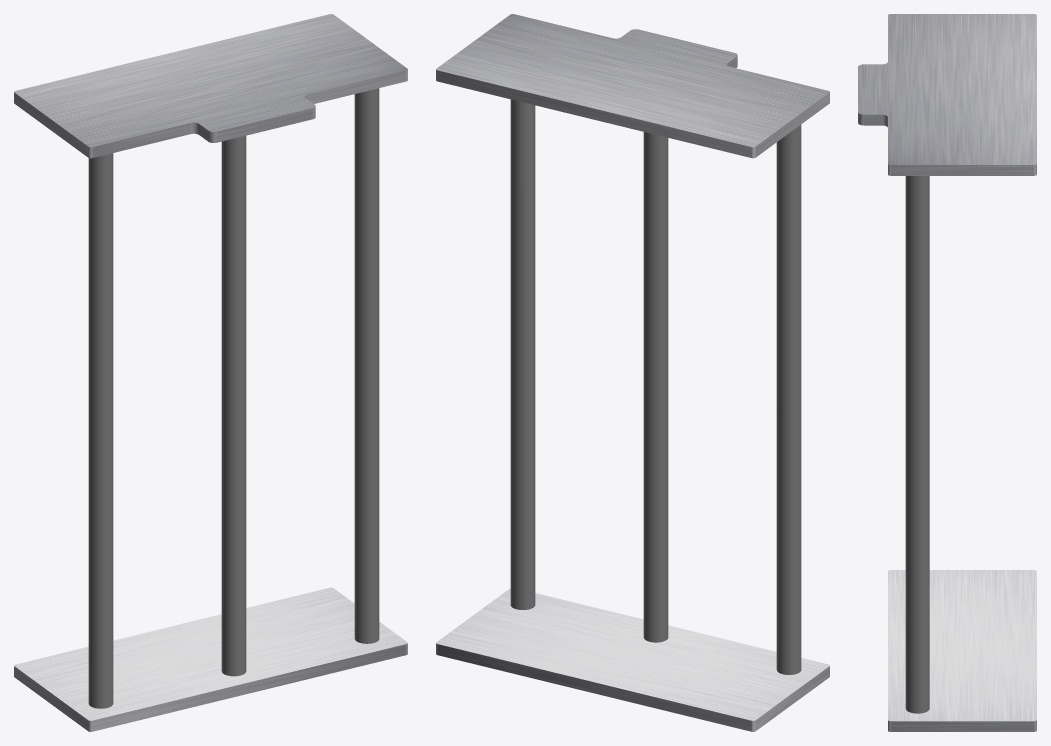
The model's file is YCorredera.obj.
The picture shows the model from 3 angles, left to right: view 1: azimuth 30°, elevation 25°; view 2: azimuth 150°, elevation 25°; view 3: azimuth 270°, elevation 25°; orthographic projection. The views are drawn at different scales.
Visible parts, largest first — view 1: 5d40f03f8eba1c15d3106c93_ID3; view 2: 5d40f03f8eba1c15d3106c93_ID3; view 3: 5d40f03f8eba1c15d3106c93_ID3.
Part boxes in pixels (x1,y1,x2,y2): 5d40f03f8eba1c15d3106c93_ID3: [14, 14, 407, 731]; 5d40f03f8eba1c15d3106c93_ID3: [436, 14, 829, 731]; 5d40f03f8eba1c15d3106c93_ID3: [858, 14, 1036, 731].
Size of the model in its own units: 120 by 210 by 60.01.
2 materials, 1 textured.
